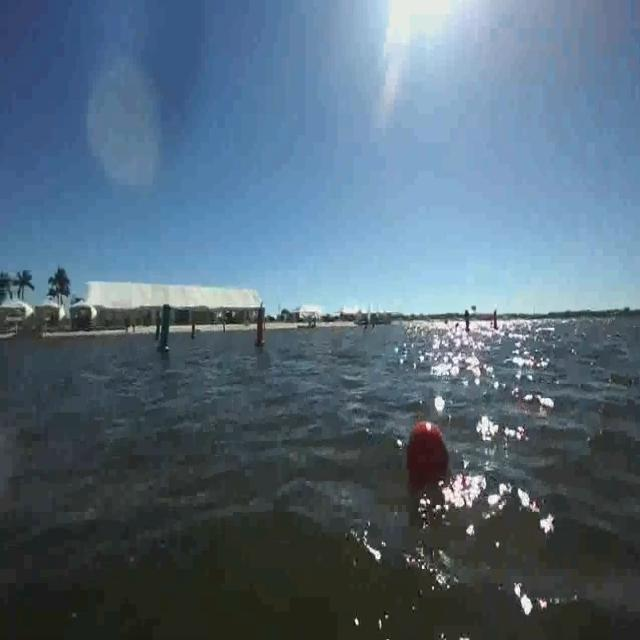green-column-buoy: (157, 303, 175, 353)
red-buoy: (406, 418, 451, 488)
red-column-buoy: (256, 316, 269, 349), (190, 320, 196, 339)
